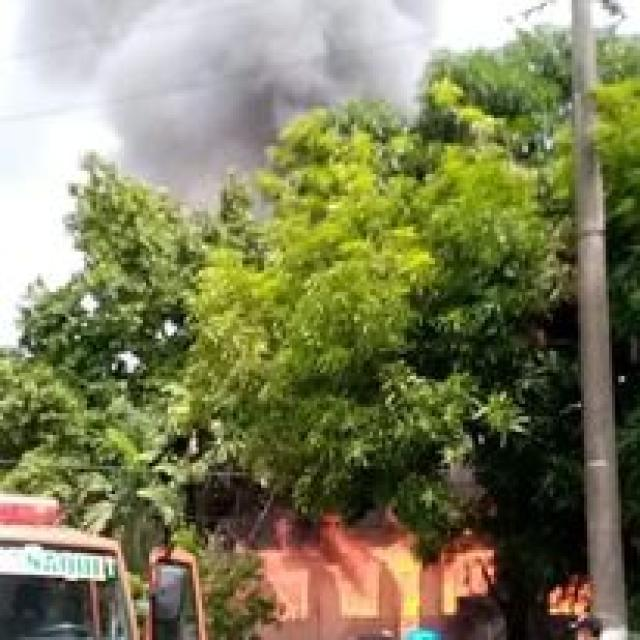Fire: (368, 543, 450, 640), (532, 566, 604, 636)
Smoke: (26, 0, 472, 218)
